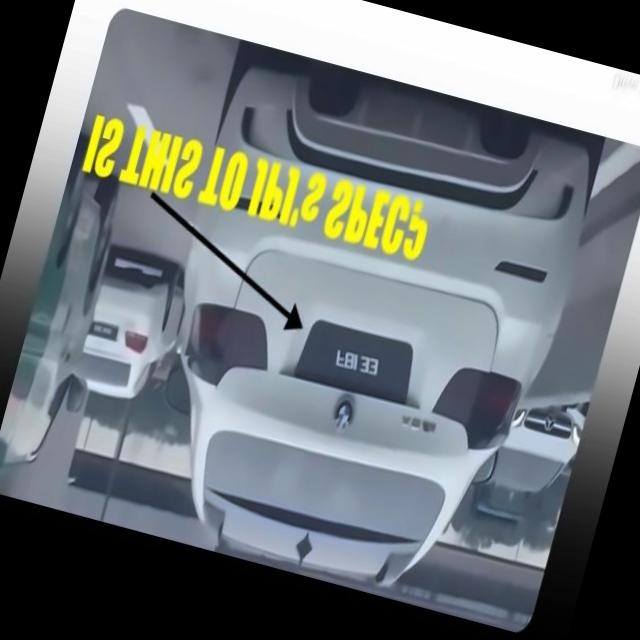License_Plate: (292, 311, 425, 411), (87, 318, 121, 344)
